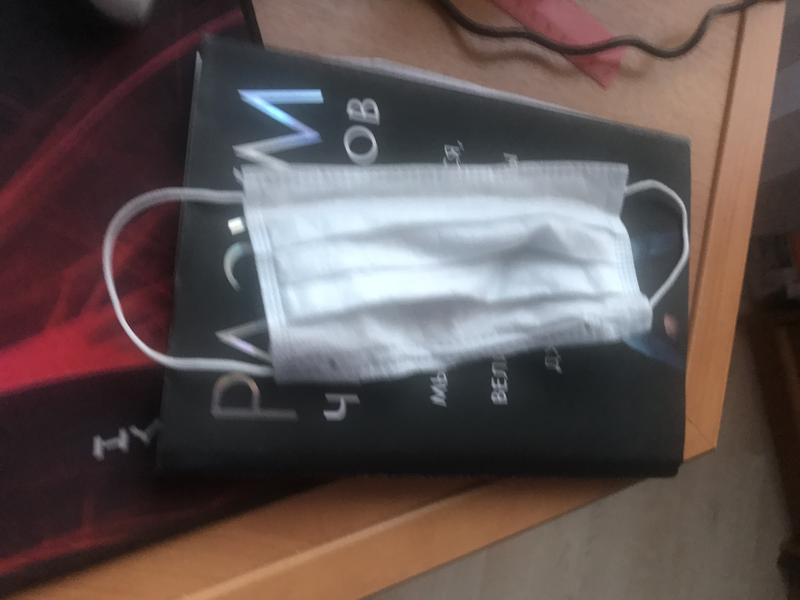medical_mask: (101, 161, 690, 379)
